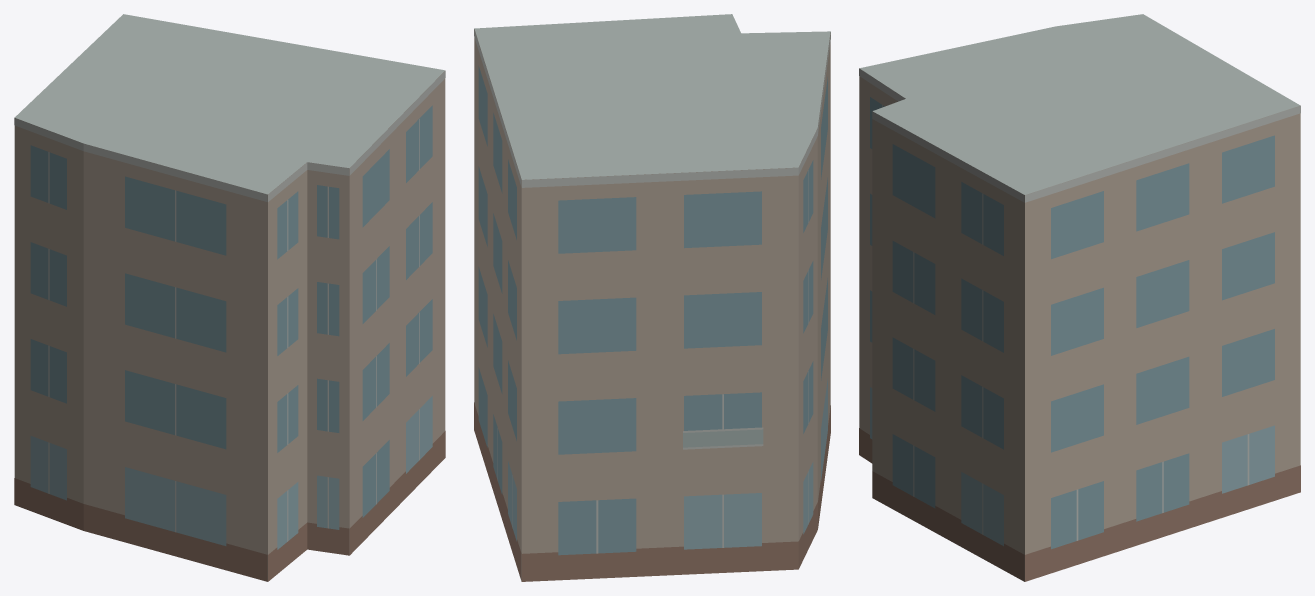
The model's file is survey-upis-32787835.glb.
The picture shows the model from 3 angles, left to right: view 1: azimuth 30°, elevation 25°; view 2: azimuth 150°, elevation 25°; view 3: azimuth 270°, elevation 25°; orthographic projection. The views are drawn at different scales.
Parts seen in each view (by area): view 1: survey-upis-32787835.tmp; view 2: survey-upis-32787835.tmp; view 3: survey-upis-32787835.tmp.
Boxes of the visible parts, <box> form: survey-upis-32787835.tmp: <box>14,14,445,581</box>; survey-upis-32787835.tmp: <box>474,14,830,581</box>; survey-upis-32787835.tmp: <box>859,14,1300,581</box>.
Size of the model in its own units: 12.26 by 12.2 by 12.63.
